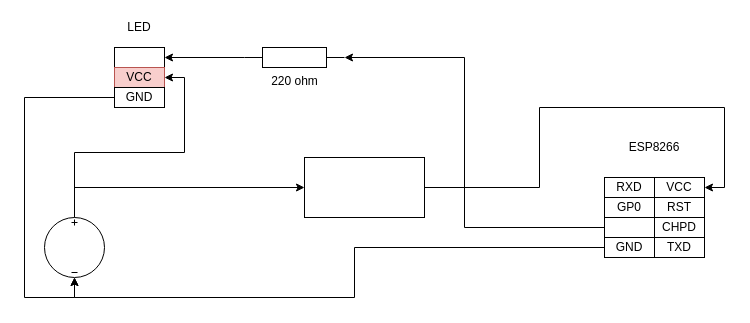
This 750x323 diagram has some shape labels left out. The box of each missing label's shape, as (x1, y1, x2, y2) in pixels:
5V: (44, 216, 104, 278)
5V -------------- 3.3V: (304, 156, 424, 218)
Din: (114, 46, 164, 68)
GP2: (604, 216, 654, 238)
